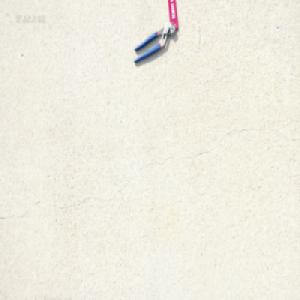Label: (167, 0, 181, 29)
Pliers: (133, 21, 175, 64)
